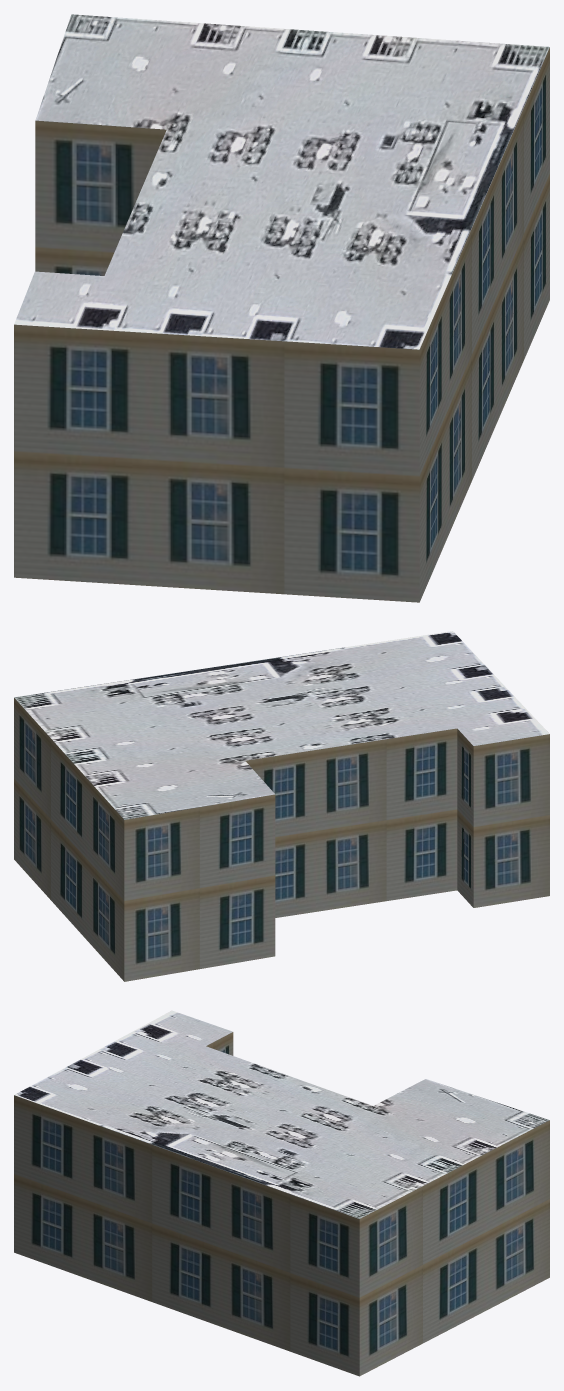
File: ResTex__921.fbx
3 views of the same model, one above another, from view 1: azimuth 30°, elevation 25°; view 2: azimuth 150°, elevation 25°; view 3: azimuth 270°, elevation 25° (orthographic). The views are drawn at different scales.
Parts seen in each view (by area): view 1: CityEngineMaterial_7_m, CityEngineMaterial_m; view 2: CityEngineMaterial_7_m, CityEngineMaterial_m; view 3: CityEngineMaterial_7_m, CityEngineMaterial_m.
Part boxes in pixels (x1,y1,x2,y2): CityEngineMaterial_7_m: (14, 47, 549, 602); CityEngineMaterial_m: (14, 14, 549, 349); CityEngineMaterial_7_m: (14, 698, 549, 981); CityEngineMaterial_m: (14, 631, 549, 819); CityEngineMaterial_7_m: (14, 1032, 549, 1376); CityEngineMaterial_m: (14, 1010, 549, 1218).
Size of the model in its own units: 17.04 by 6 by 18.51.
2 materials, 2 textured.
